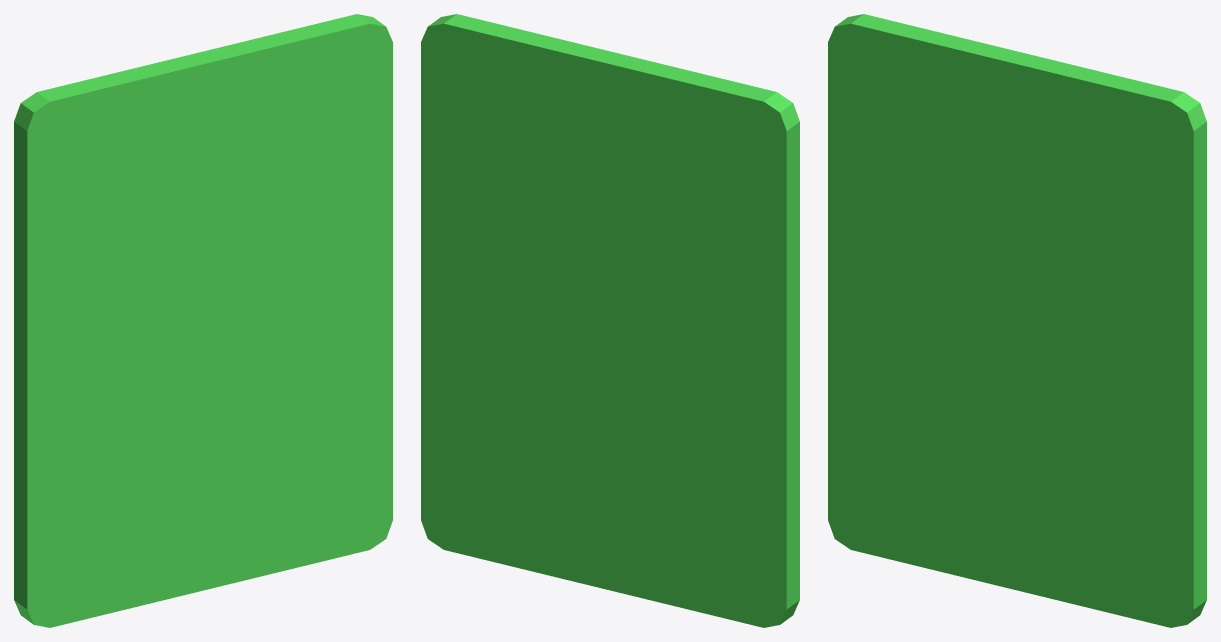
The model's file is SM_town_minisign.fbx.
3 views of the same model, side by side, from view 1: azimuth 30°, elevation 25°; view 2: azimuth 150°, elevation 25°; view 3: azimuth 330°, elevation 25° (orthographic).
Parts seen in each view (by area): view 1: mini_sign_low; view 2: mini_sign_low; view 3: mini_sign_low.
Boxes of the visible parts, left/top/right/bottom form: mini_sign_low: left=14, top=14, right=392, bottom=627; mini_sign_low: left=421, top=14, right=799, bottom=627; mini_sign_low: left=828, top=14, right=1206, bottom=627.
Bounding box in the file's own units: 32 × 44 × 2.
